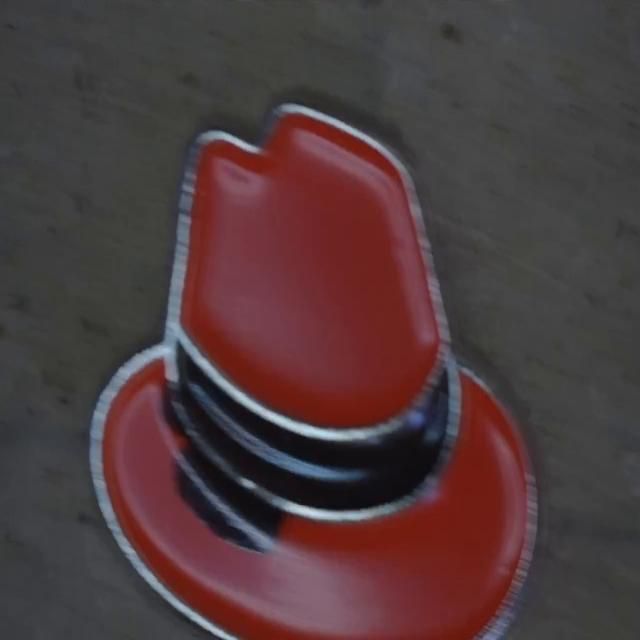Hatband: (170, 340, 459, 518)
Paint_Leak: (175, 438, 280, 551)
RedHatPin: (90, 107, 538, 637)
